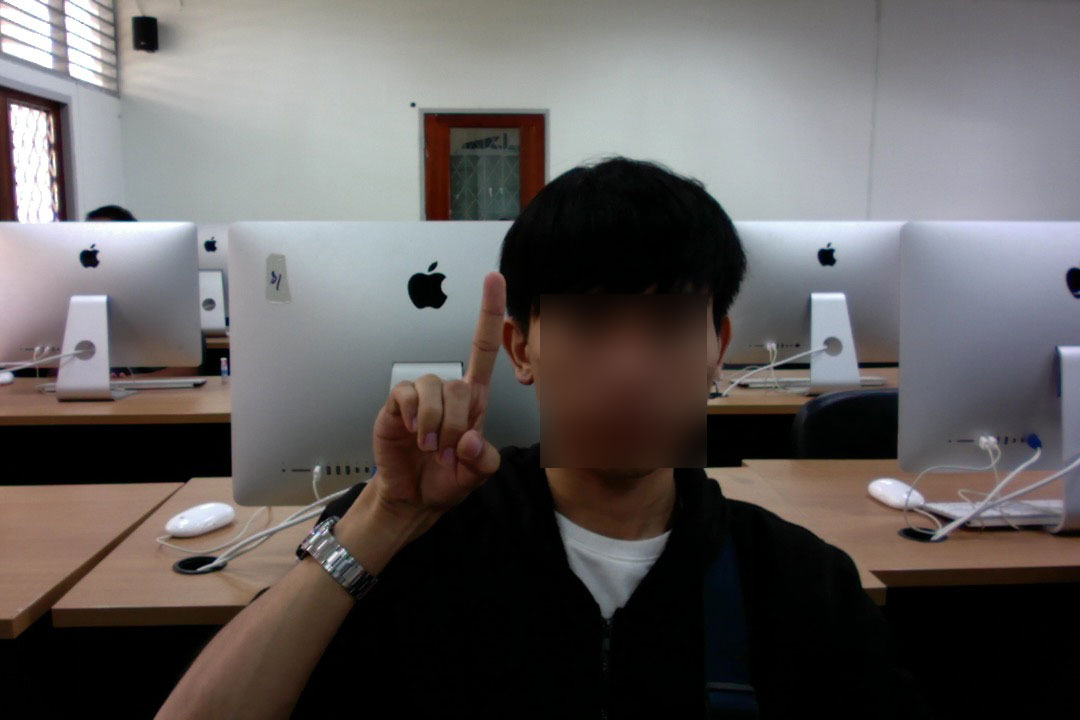dor: (334, 267, 516, 516)
